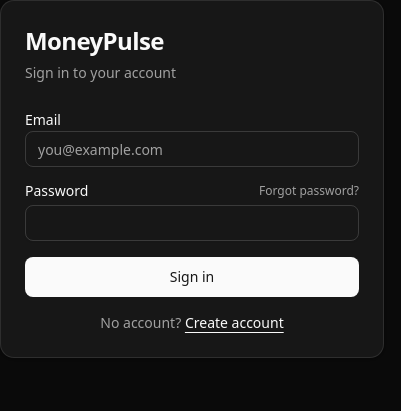
LoginForm › shows firebase error message on failed login
The width and height of the screenshot is (401, 411).
Type "user@example.com" into the field labelled "Email" at (192,149), box [25,131,359,167]
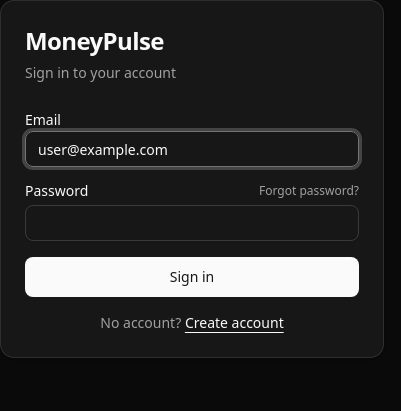
Type "wrongpass" into the password field labelled "Password" at (192,223), box [25,205,359,241]
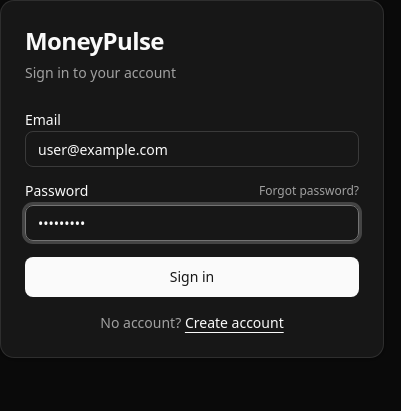
Click the button "Sign in" at (192,277), box [25,257,359,297]
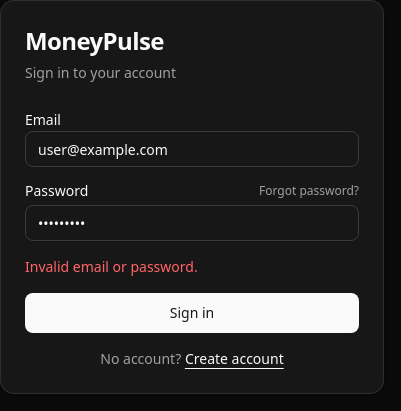
Expected: the text "Invalid email or password." is shown, [25,257,198,276]
